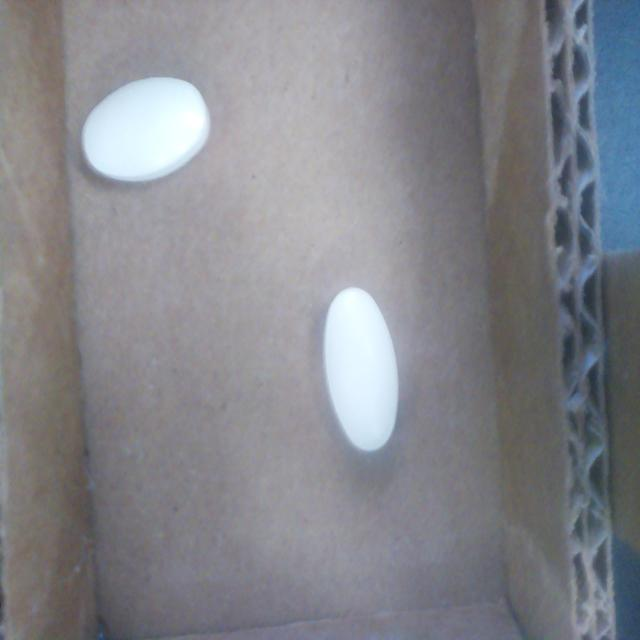pill: (81, 77, 210, 182), (323, 287, 399, 454)
